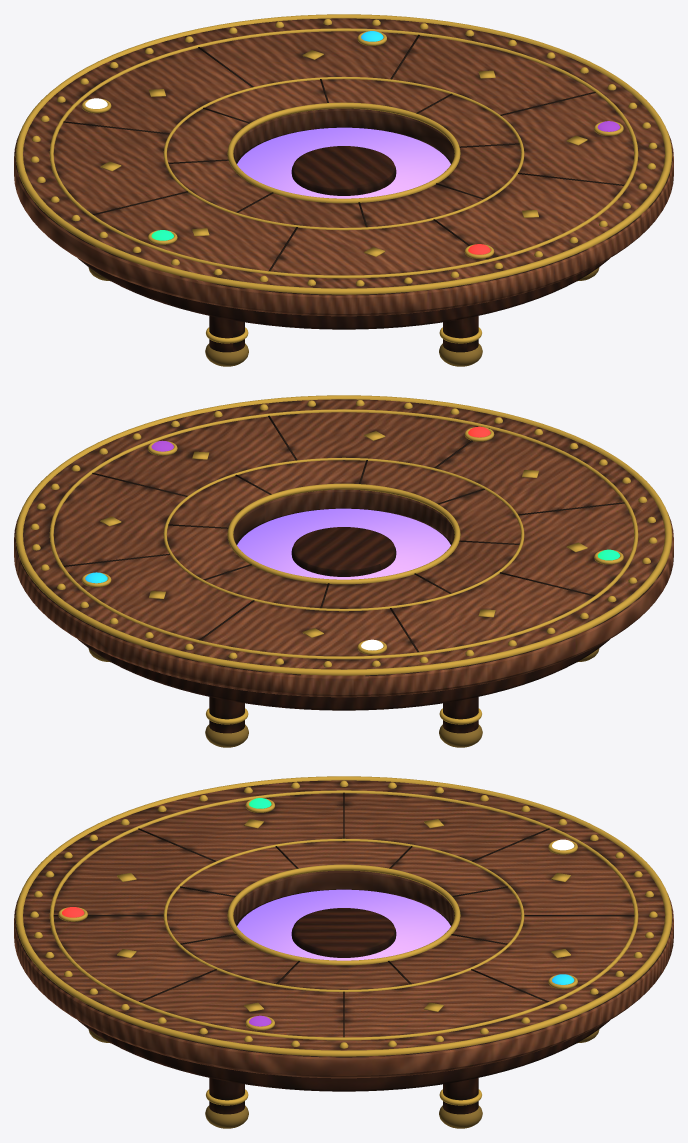
The model's file is pod-table.glb.
3 views of the same model, one above another, from view 1: azimuth 30°, elevation 25°; view 2: azimuth 150°, elevation 25°; view 3: azimuth 270°, elevation 25° (orthographic).
Visible parts, largest first — view 1: Table_Wood, Gold, Well, Seams, Brass, Gems; view 2: Table_Wood, Gold, Well, Seams, Brass, Gems; view 3: Table_Wood, Gold, Well, Seams, Brass, Gems.
Part boxes in pixels (x1,y1,x2,y2): Table_Wood: [14, 18, 673, 352]; Gold: [15, 14, 672, 343]; Well: [237, 127, 450, 198]; Seams: [63, 34, 624, 271]; Brass: [88, 267, 599, 366]; Gems: [85, 31, 620, 254]; Table_Wood: [14, 399, 673, 733]; Gold: [15, 395, 672, 724]; Well: [237, 508, 450, 579]; Seams: [63, 415, 624, 652]; Brass: [88, 648, 599, 747]; Gems: [85, 426, 619, 650]; Table_Wood: [14, 780, 673, 1114]; Gold: [15, 776, 672, 1105]; Well: [237, 889, 450, 960]; Seams: [53, 792, 634, 1037]; Brass: [88, 1029, 599, 1128]; Gems: [62, 798, 574, 1026].
Bounding box in the file's own units: 4.8 × 1.06 × 4.8.
10 materials, 1 textured.
